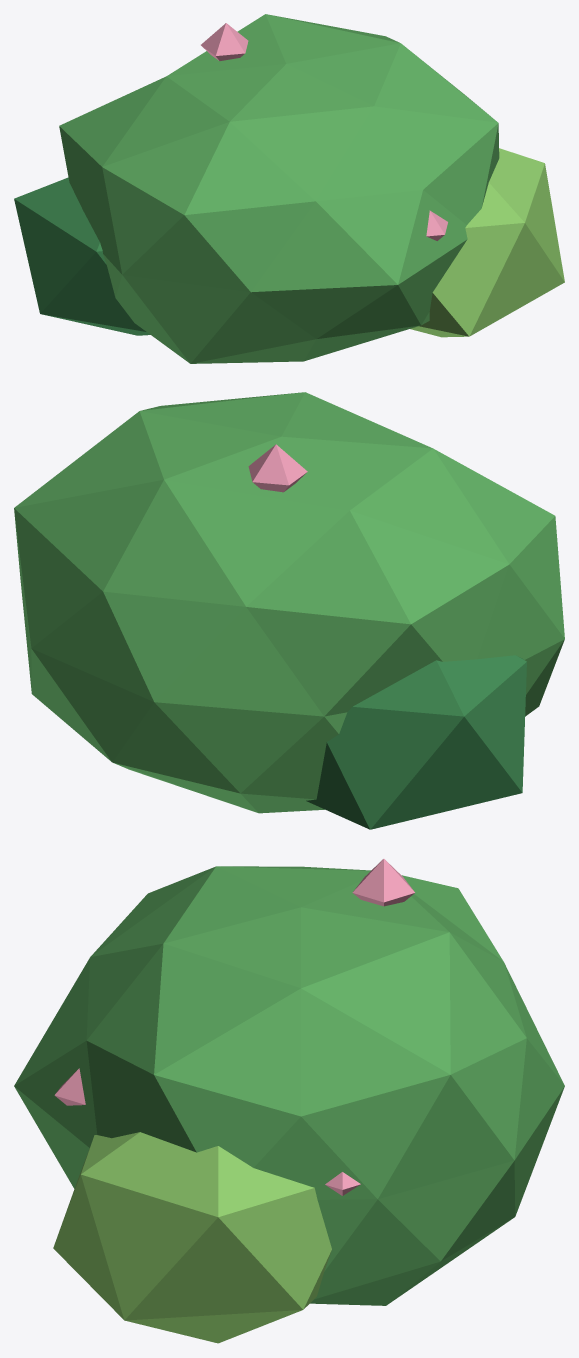
The model's file is prop_bush.glb.
3 views of the same model, one above another, from view 1: azimuth 30°, elevation 25°; view 2: azimuth 150°, elevation 25°; view 3: azimuth 270°, elevation 25° (orthographic). The views are drawn at different scales.
Visible parts, largest first — view 1: prop_bush; view 2: prop_bush; view 3: prop_bush.
Boxes of the visible parts, x1,y1,x2,y2 form: prop_bush: (14, 14, 564, 363); prop_bush: (14, 392, 564, 829); prop_bush: (14, 859, 564, 1343).
Bounding box in the file's own units: 0.8008 × 0.5225 × 0.6655.
